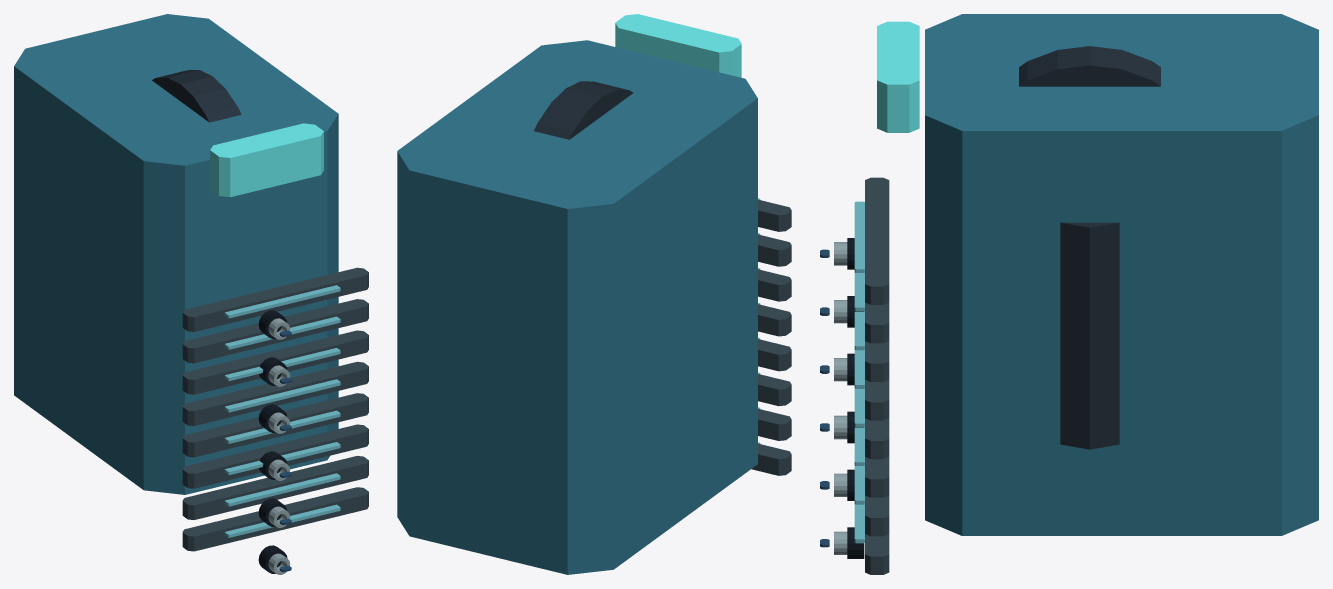
The model's file is enemy_marksman_4k_forearm_l.obj.
3 views of the same model, side by side, from view 1: azimuth 30°, elevation 25°; view 2: azimuth 150°, elevation 25°; view 3: azimuth 270°, elevation 25° (orthographic). The views are drawn at different scales.
Size of the model in its own units: 0.2716 by 0.5318 by 0.4685.
